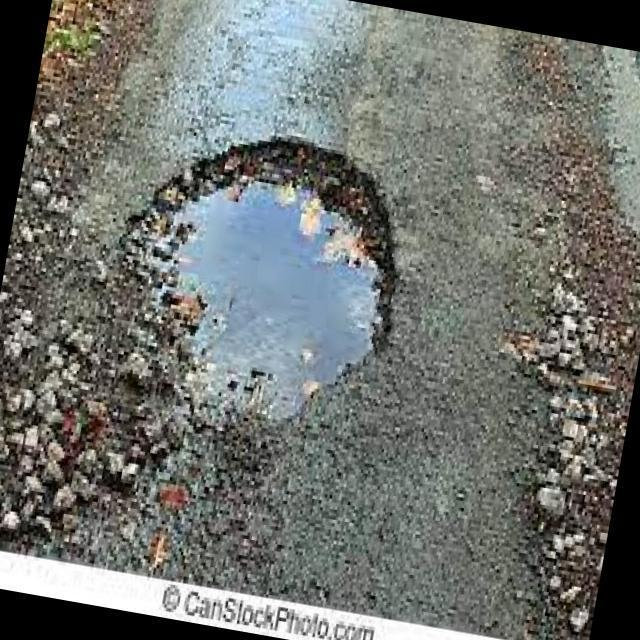Pothole: (132, 139, 395, 424)
